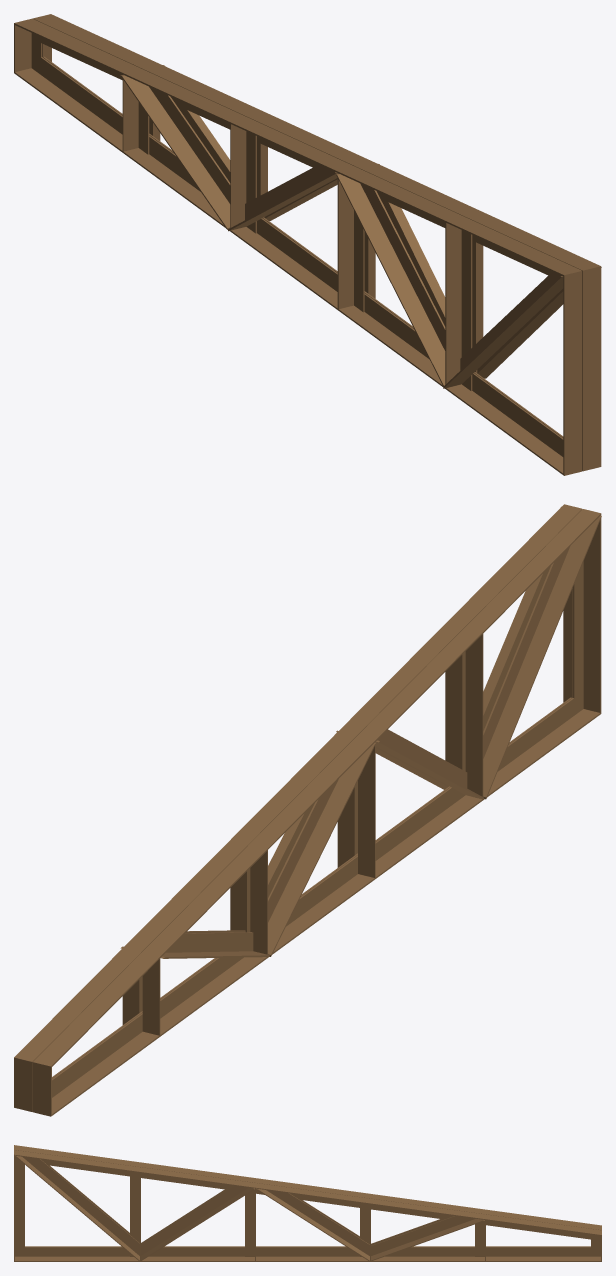
The model's file is wh_truss.obj.
3 views of the same model, one above another, from view 1: azimuth 30°, elevation 25°; view 2: azimuth 150°, elevation 25°; view 3: azimuth 270°, elevation 25° (orthographic). The views are drawn at different scales.
Visible parts, largest first — view 1: wh_truss; view 2: wh_truss; view 3: wh_truss.
Boxes of the visible parts, bbox=[...] form: wh_truss: bbox=[14, 14, 601, 475]; wh_truss: bbox=[14, 504, 601, 1116]; wh_truss: bbox=[14, 1145, 601, 1261].
Size of the model in its own units: 0.1787 by 0.8 by 3.98.
